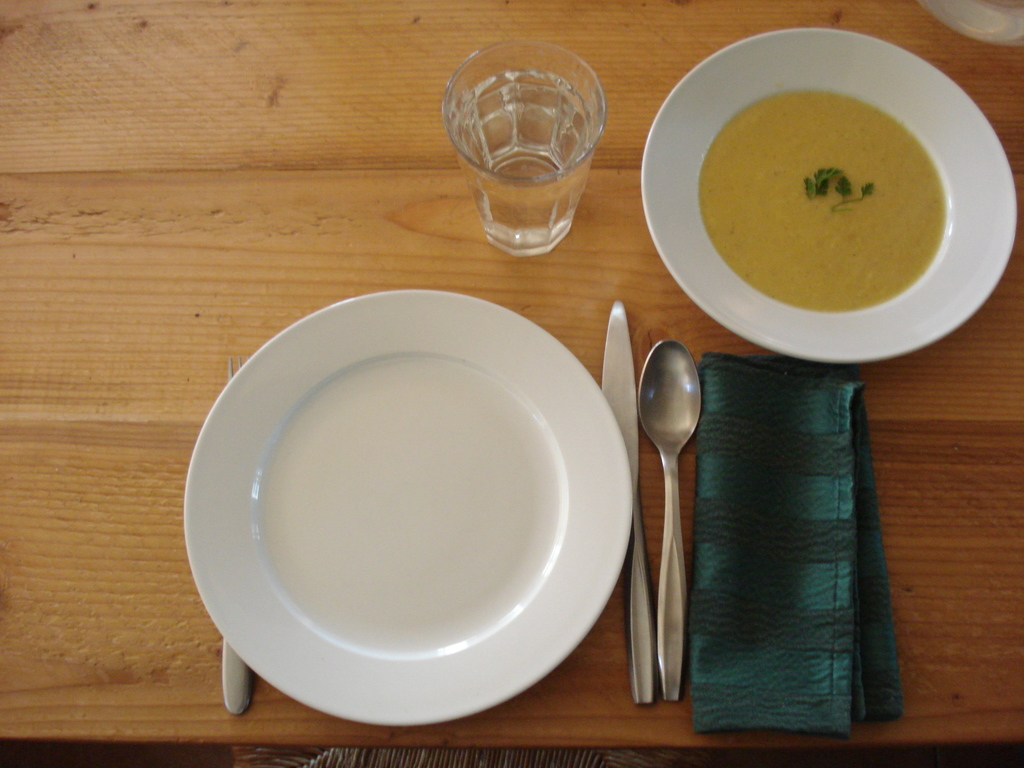plate: (181, 291, 632, 727)
